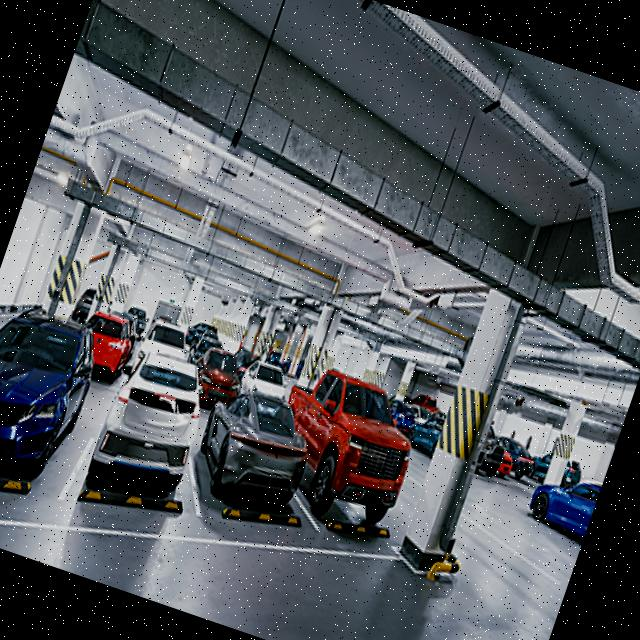occupied: (60, 332, 248, 560), (254, 357, 441, 577), (171, 362, 336, 550), (0, 285, 123, 526)
